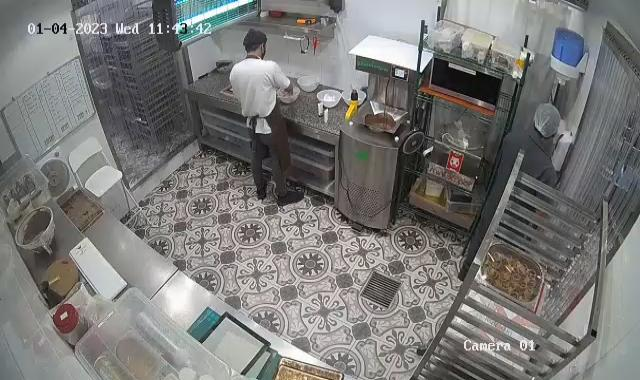hairnet: (530, 104, 561, 139)
no_hairnet: (242, 26, 268, 50)
